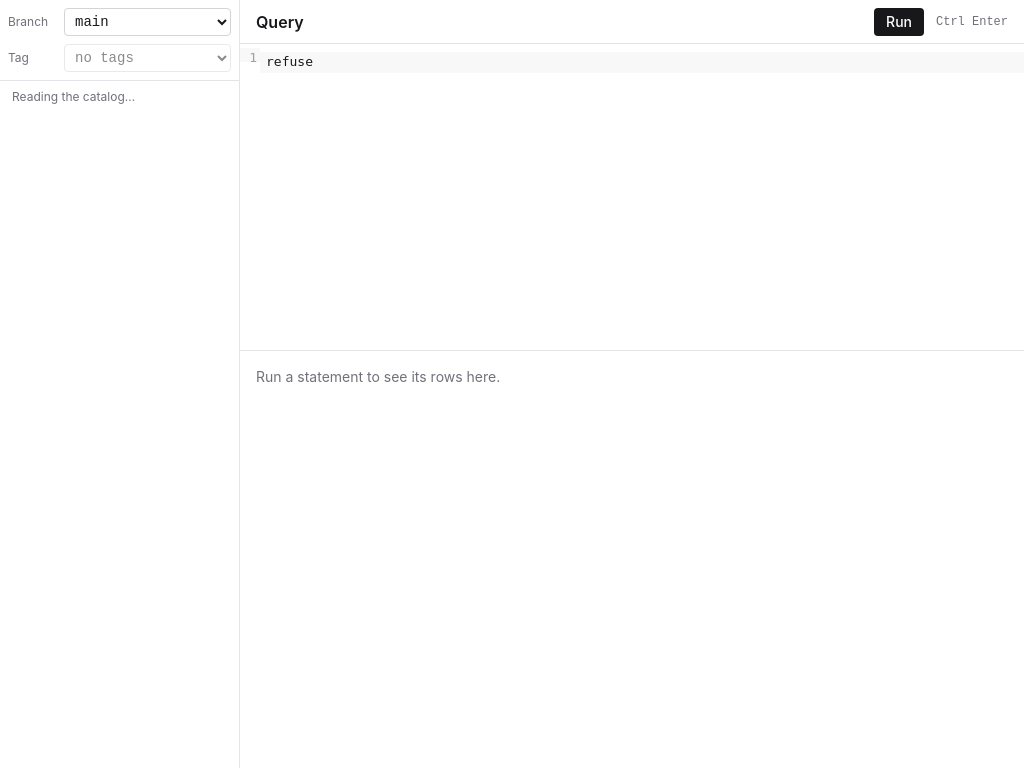
it: QueryPage › says a text refused as a whole as the command line does
Click the button "Run".
click(899, 22)  # box [874,8,924,36]
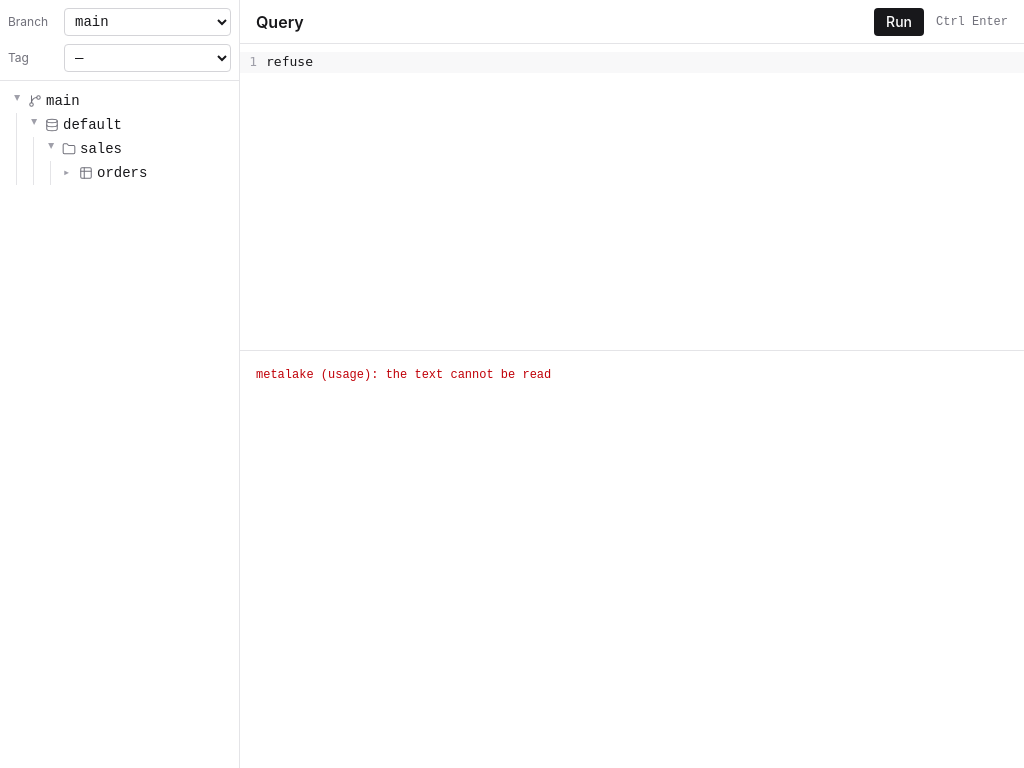
Expected: the message reads "metalake (usage): the text cannot be read", [256,368,551,382]
